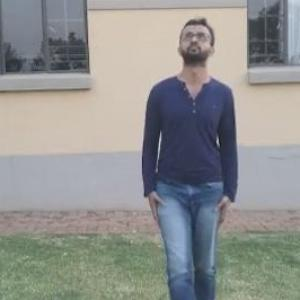follow: (138, 7, 245, 299)
